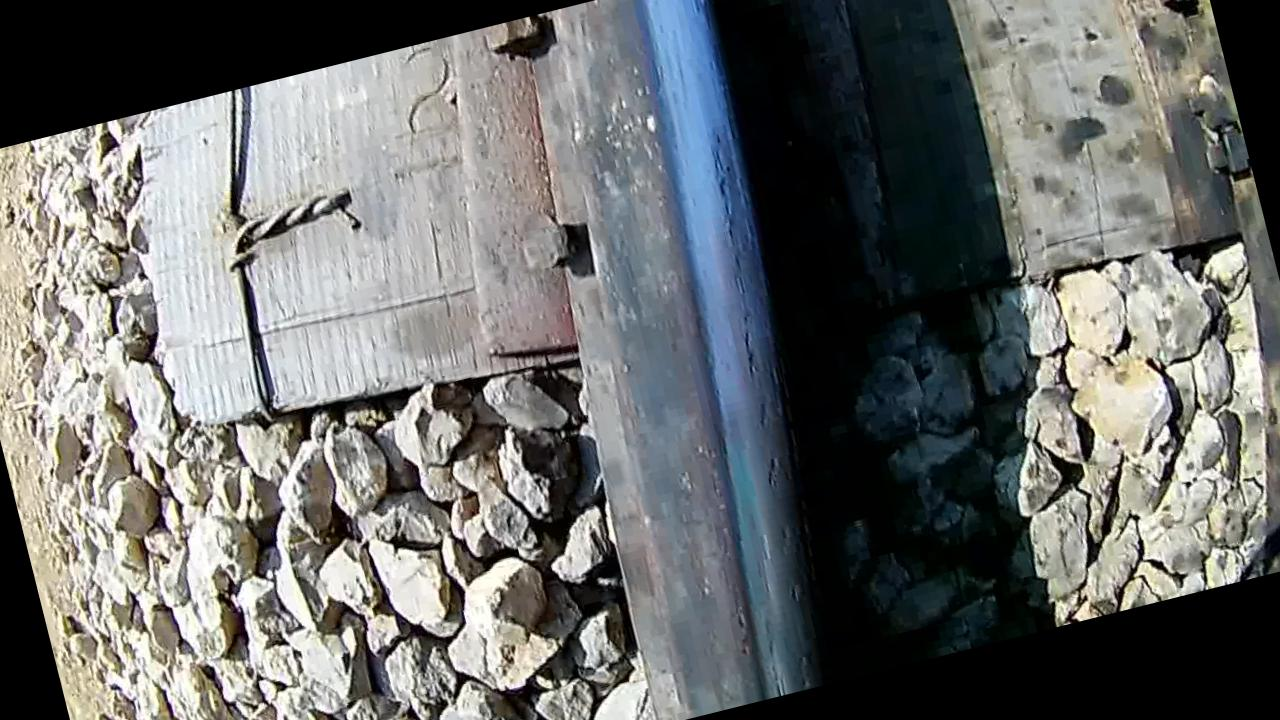crack: (525, 0, 874, 716)
